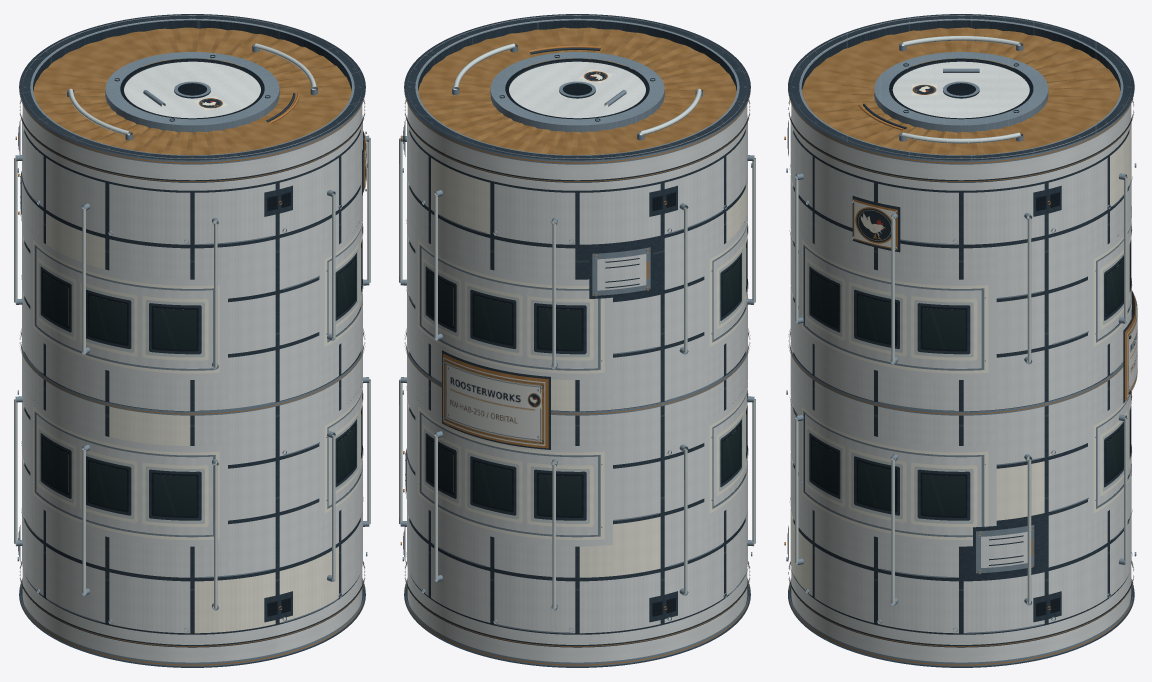
File: RW_HAB_250.obj
3 views of the same model, side by side, from view 1: azimuth 30°, elevation 25°; view 2: azimuth 150°, elevation 25°; view 3: azimuth 270°, elevation 25° (orthographic).
Visible parts, largest first — view 1: ceramic, graphite, white, hubblanket, steel, rail, glass, black, bronze; view 2: ceramic, graphite, hubblanket, white, steel, rail, glass, label, black, bronze; view 3: ceramic, graphite, hubblanket, steel, white, rail, glass, black, bronze, crest, label.
Boxes of the visible parts, bbox=[...] form: ceramic: bbox=[20, 15, 362, 662]; graphite: bbox=[19, 14, 365, 667]; white: bbox=[22, 213, 363, 633]; hubblanket: bbox=[33, 27, 351, 155]; steel: bbox=[15, 15, 369, 666]; rail: bbox=[14, 43, 370, 608]; glass: bbox=[43, 233, 362, 515]; black: bbox=[18, 58, 362, 616]; bronze: bbox=[15, 93, 365, 665]; ceramic: bbox=[405, 15, 747, 662]; graphite: bbox=[404, 14, 750, 667]; hubblanket: bbox=[418, 27, 736, 155]; white: bbox=[407, 158, 748, 577]; steel: bbox=[400, 15, 754, 666]; rail: bbox=[399, 43, 755, 608]; glass: bbox=[428, 233, 747, 515]; label: bbox=[443, 357, 545, 445]; black: bbox=[403, 58, 747, 616]; bronze: bbox=[400, 45, 750, 665]; ceramic: bbox=[790, 15, 1131, 662]; graphite: bbox=[788, 14, 1134, 667]; hubblanket: bbox=[802, 27, 1120, 155]; steel: bbox=[786, 15, 1136, 666]; white: bbox=[790, 125, 1132, 595]; rail: bbox=[795, 36, 1132, 603]; glass: bbox=[812, 241, 1131, 515]; black: bbox=[787, 58, 1131, 616]; bronze: bbox=[784, 95, 1135, 665]; crest: bbox=[854, 84, 937, 248]; label: bbox=[1127, 293, 1137, 397].
Bounding box in the file's own units: 2.47 × 3.96 × 2.49.
Materials: 11 (11 with a texture image).
